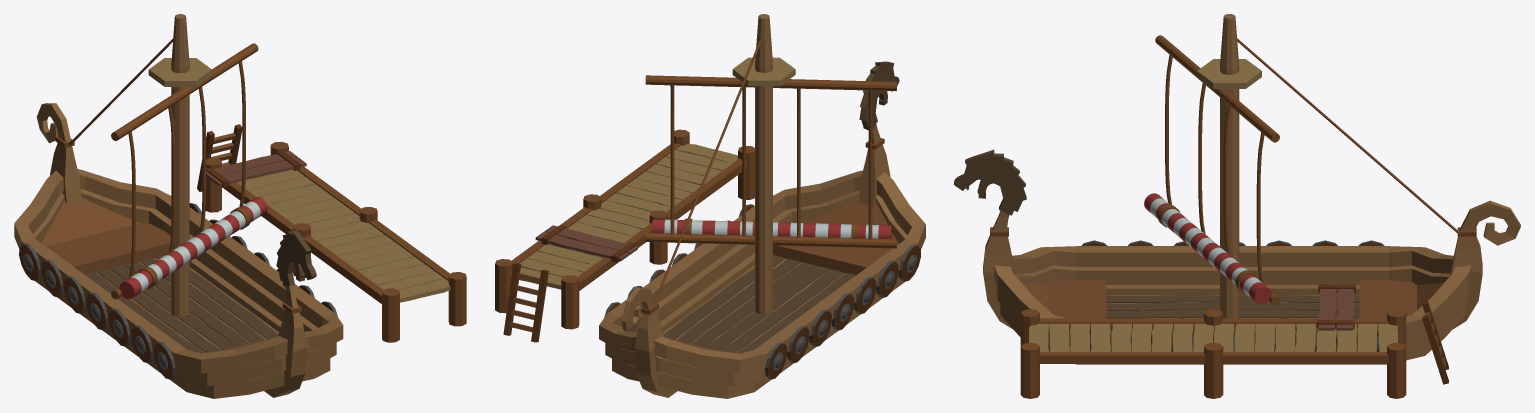
Rendered from Wikingerschiff.fbx.
The picture shows the model from 3 angles, left to right: view 1: azimuth 30°, elevation 25°; view 2: azimuth 150°, elevation 25°; view 3: azimuth 270°, elevation 25°; orthographic projection. The views are drawn at different scales.
Visible parts, largest first — view 1: Cylinder.003, Cube.009, Cube.004, Cube.001; view 2: Cylinder.003, Cube.009, Cube.001, Cube.004; view 3: Cylinder.003, Cube.009, Cube.004, Cube.001.
Part boxes in pixels (x1,y1,x2,y2): Cylinder.003: (14,14,343,398); Cube.009: (205,141,466,342); Cube.004: (206,150,306,187); Cube.001: (197,124,242,191); Cylinder.003: (599,14,925,398); Cube.009: (495,129,754,329); Cube.001: (503,263,548,342); Cube.004: (535,225,637,262); Cylinder.003: (954,14,1520,364); Cube.009: (1020,309,1406,398); Cube.004: (1317,284,1355,330); Cube.001: (1422,301,1448,384).
Size of the model in its own units: 448 by 452 by 736.
